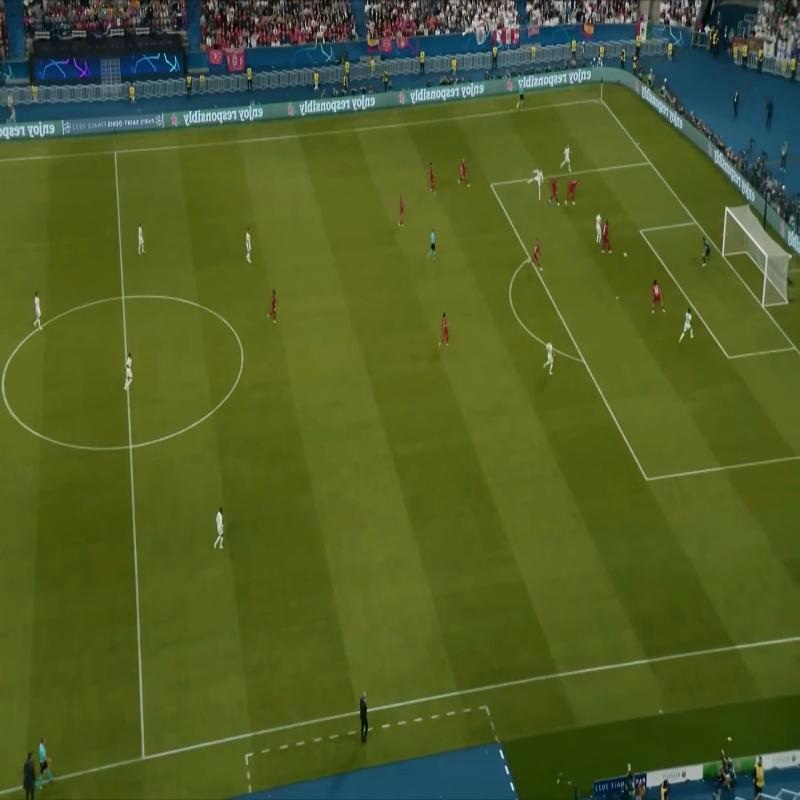1: (594, 92, 609, 107)
11: (576, 354, 592, 370)
12: (638, 471, 656, 487)
13: (110, 143, 120, 162)
14: (114, 289, 130, 306)
15: (121, 438, 140, 456)
16: (134, 744, 152, 770)
2: (642, 154, 656, 172)
3: (690, 214, 700, 231)
7: (634, 220, 647, 243)
8: (721, 350, 737, 366)
9: (484, 176, 498, 192)
c: (232, 344, 249, 362), (0, 372, 6, 399)
